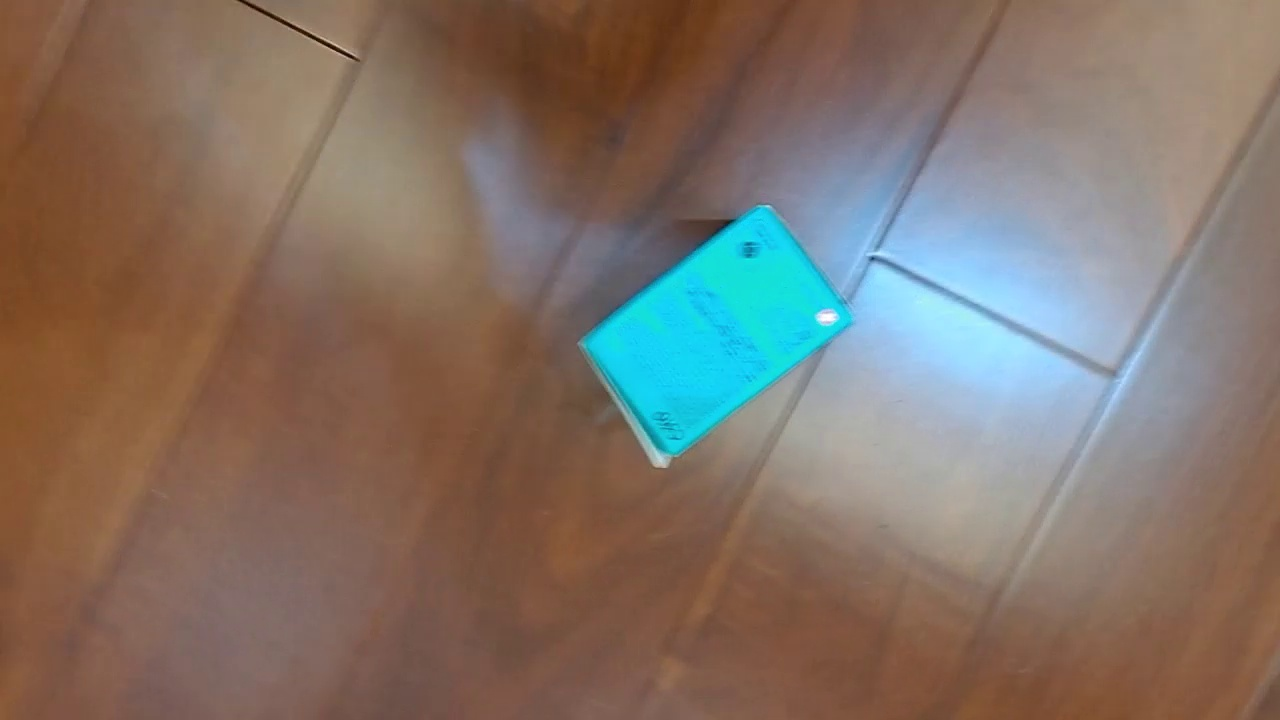webcam: (574, 203, 858, 470)
